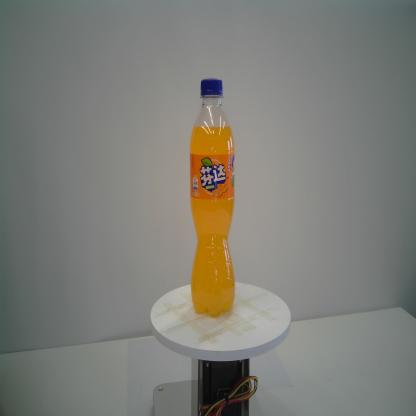Drink: (187, 75, 236, 318)
